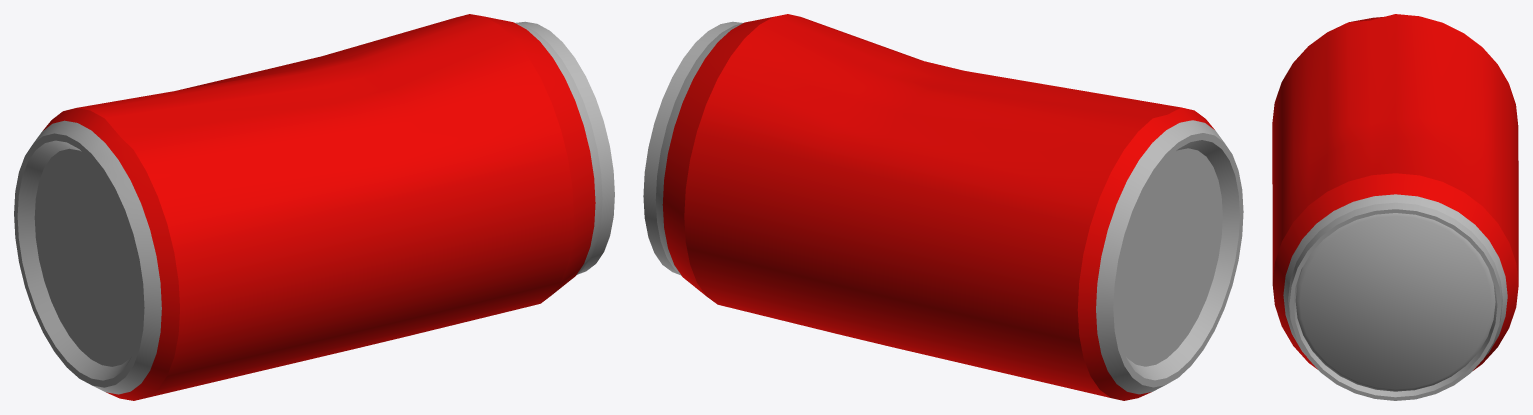
The model's file is Aluminium_Can.fbx.
3 views of the same model, side by side, from view 1: azimuth 30°, elevation 25°; view 2: azimuth 150°, elevation 25°; view 3: azimuth 270°, elevation 25° (orthographic). The views are drawn at different scales.
Parts seen in each view (by area): view 1: Cylinder; view 2: Cylinder; view 3: Cylinder.
Boxes of the visible parts, <box> form: Cylinder: <box>14,14,614,400</box>; Cylinder: <box>643,14,1243,400</box>; Cylinder: <box>1272,14,1518,400</box>.
Bounding box in the file's own units: 26 × 14.48 × 14.4.
